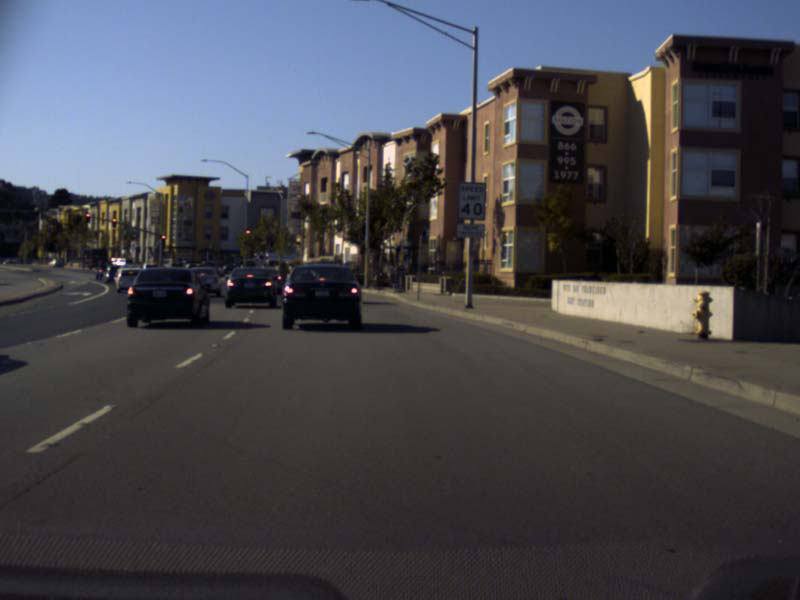Red: (111, 217, 116, 227), (84, 212, 89, 221)
